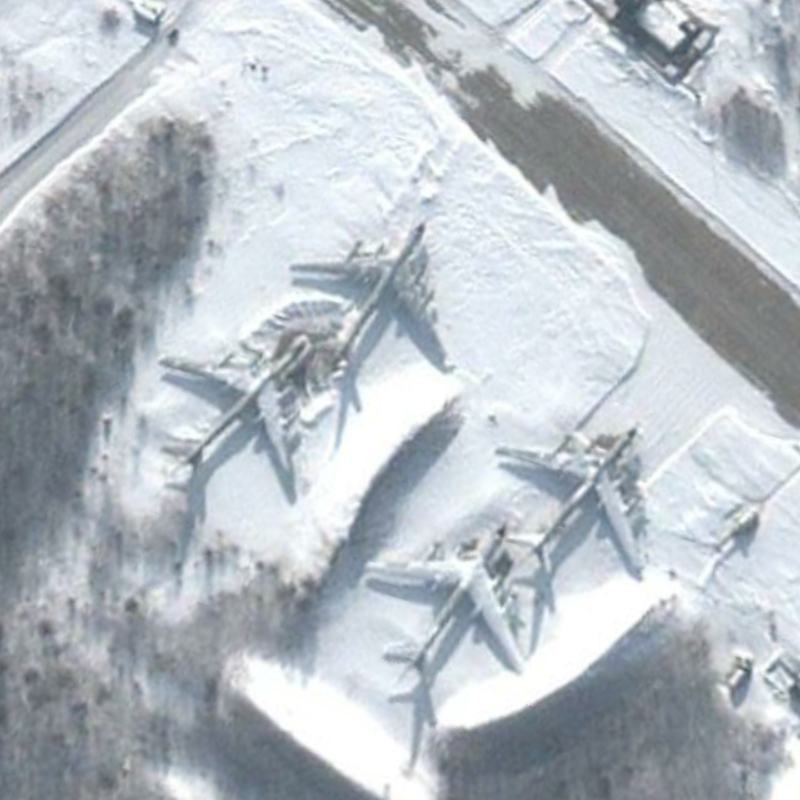A17: (284, 216, 458, 382), (358, 516, 528, 684), (489, 421, 653, 583), (155, 331, 316, 486)
